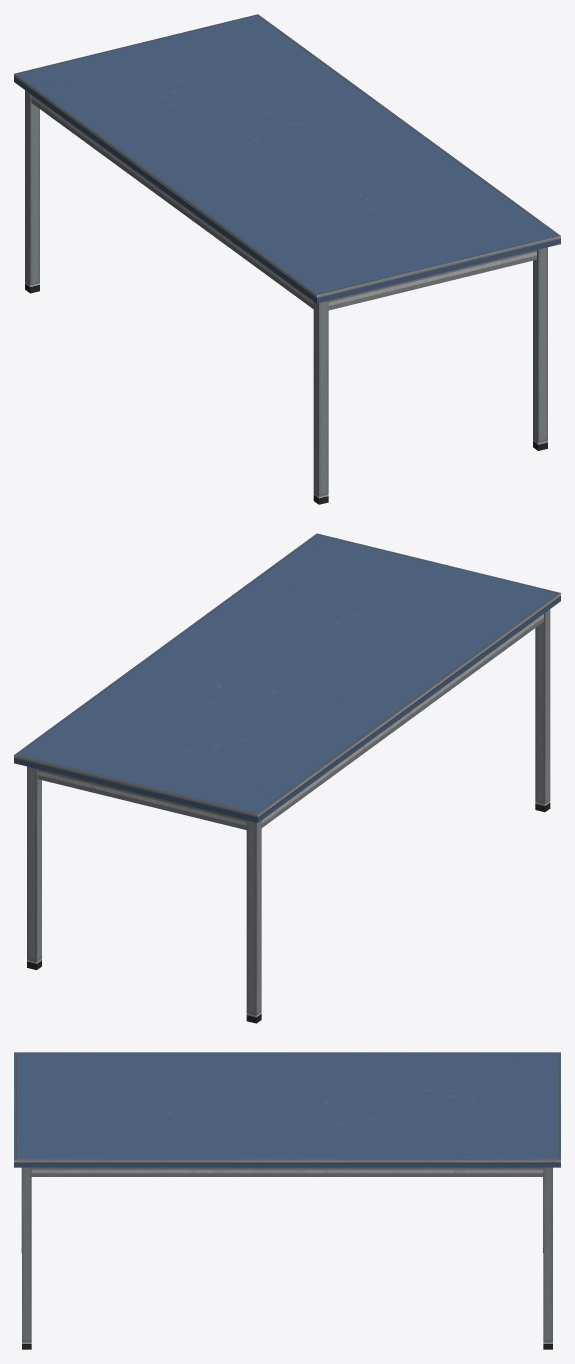
File: HH_Desk_Big.fbx
The picture shows the model from 3 angles, top to bottom: view 1: azimuth 30°, elevation 25°; view 2: azimuth 150°, elevation 25°; view 3: azimuth 270°, elevation 25°; orthographic projection. The views are drawn at different scales.
Visible parts, largest first — view 1: HH_Desk_Big; view 2: HH_Desk_Big; view 3: HH_Desk_Big.
Boxes of the visible parts, x1,y1,x2,y2 form: HH_Desk_Big: [14, 14, 560, 504]; HH_Desk_Big: [14, 533, 560, 1023]; HH_Desk_Big: [14, 1052, 560, 1349].
Bounding box in the file's own units: 93.1 × 78 × 200.
